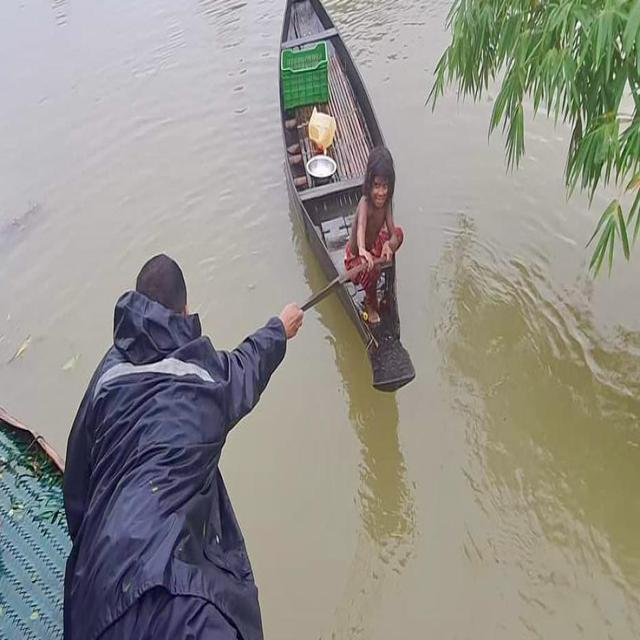Person-RiskLevel1: (55, 250, 317, 640)
Person-RiskLevel3: (327, 138, 414, 345)
